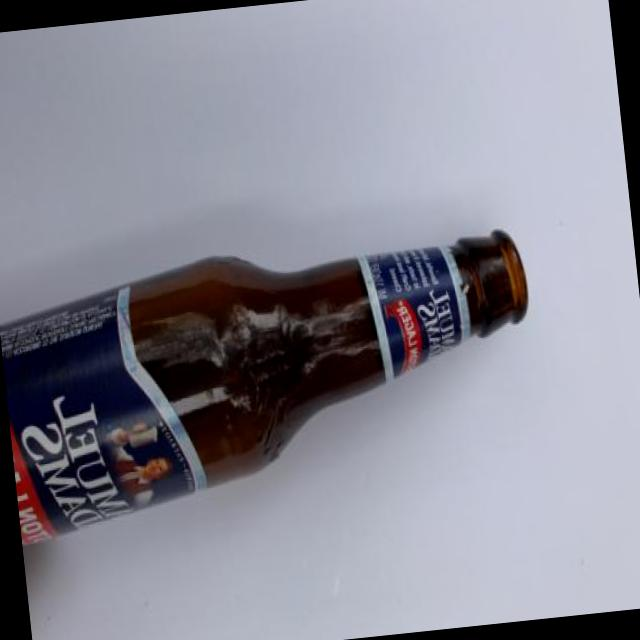chai_thuy_tinh: (0, 231, 528, 545)
